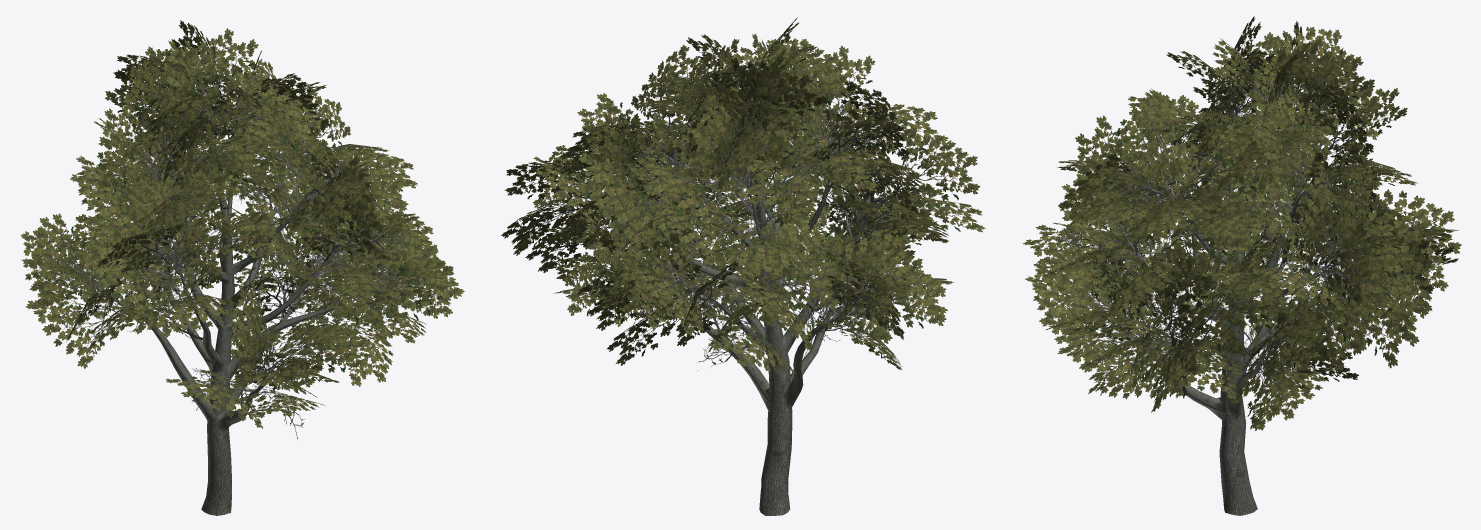
Rendered from Maple_17m.fbx.
3 views of the same model, side by side, from view 1: azimuth 30°, elevation 25°; view 2: azimuth 150°, elevation 25°; view 3: azimuth 270°, elevation 25° (orthographic). The views are drawn at different scales.
Parts seen in each view (by area): view 1: Maple_17m; view 2: Maple_17m; view 3: Maple_17m.
Part boxes in pixels (box(x1,y1,x2,y2)): Maple_17m: box(21, 20, 464, 515); Maple_17m: box(501, 18, 985, 515); Maple_17m: box(1023, 16, 1461, 515).
Size of the model in its own units: 1433 by 1678 by 1424.
1 material, 1 textured.
